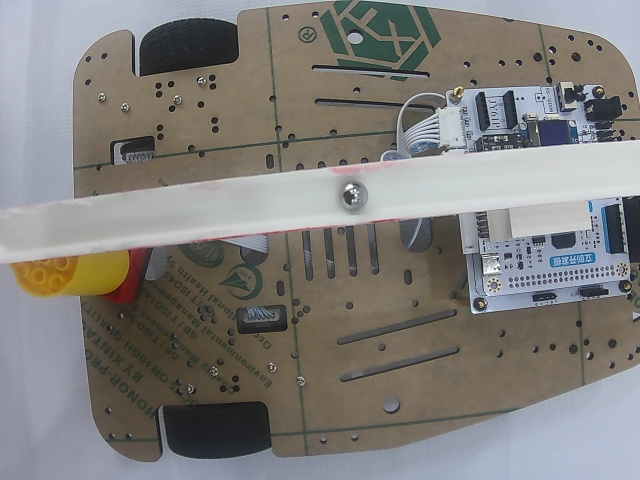steelball: (340, 182, 368, 210)
